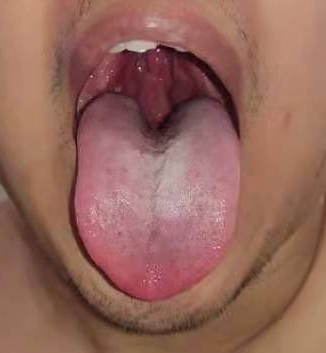baitaishe: (74, 93, 241, 301)
hongshe: (74, 93, 241, 301)
shenquao: (110, 93, 207, 153)
